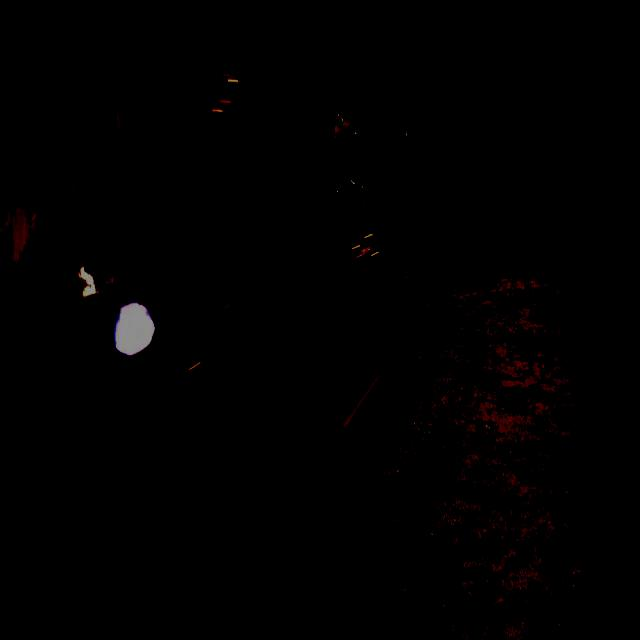Motorbike: (106, 234, 399, 604)
